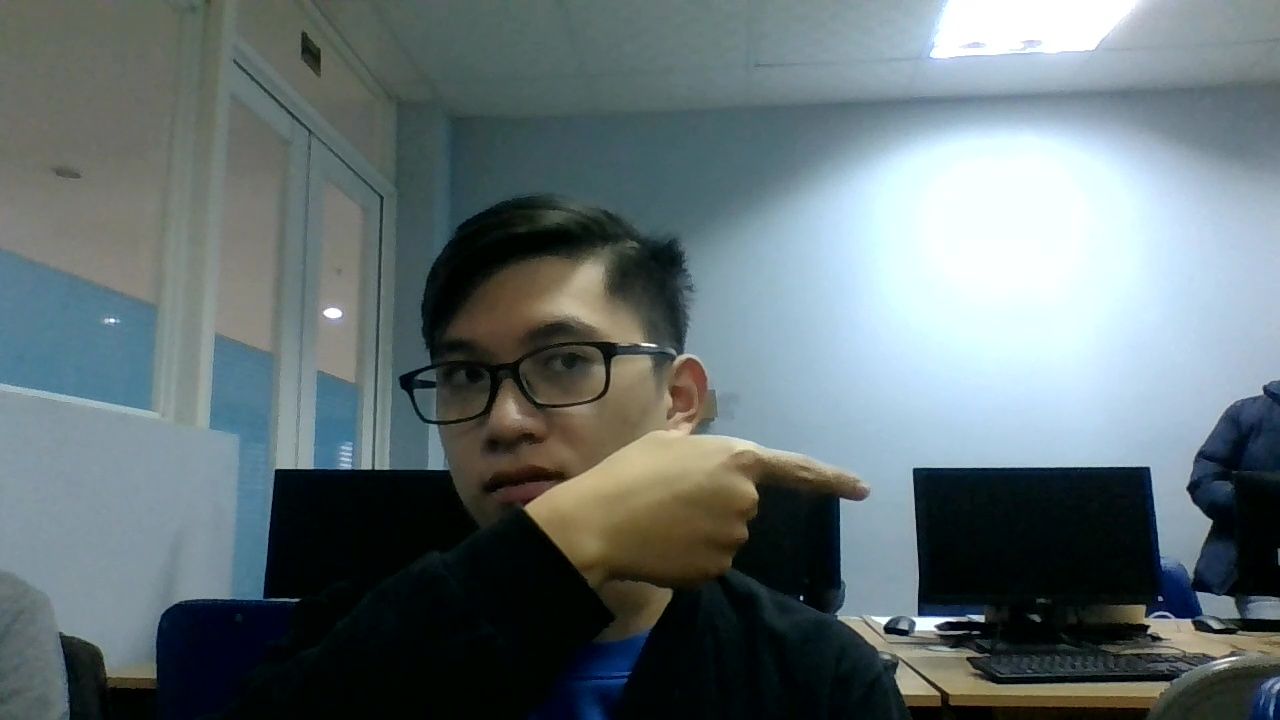left: (589, 418, 876, 599)
